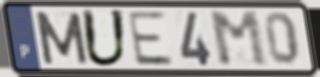0: (263, 10, 302, 69)
4: (178, 9, 214, 69)
E: (125, 9, 176, 68)
M: (206, 9, 271, 69), (32, 10, 91, 66)
U: (79, 8, 131, 70)
